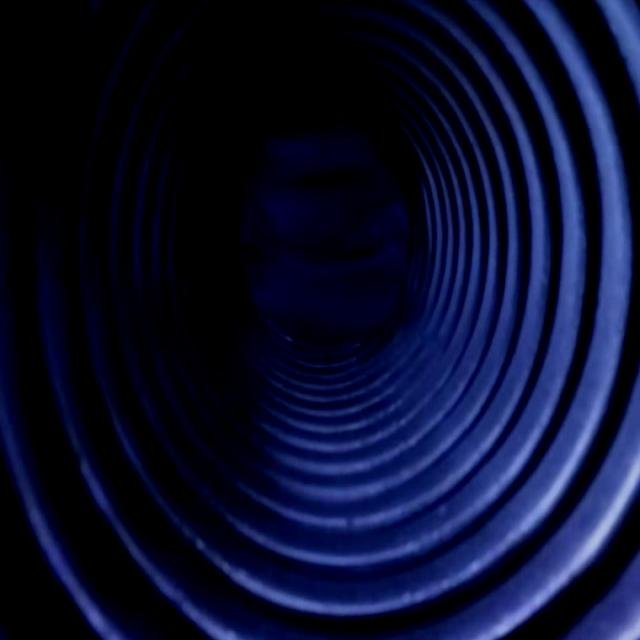block: (236, 118, 416, 346)
